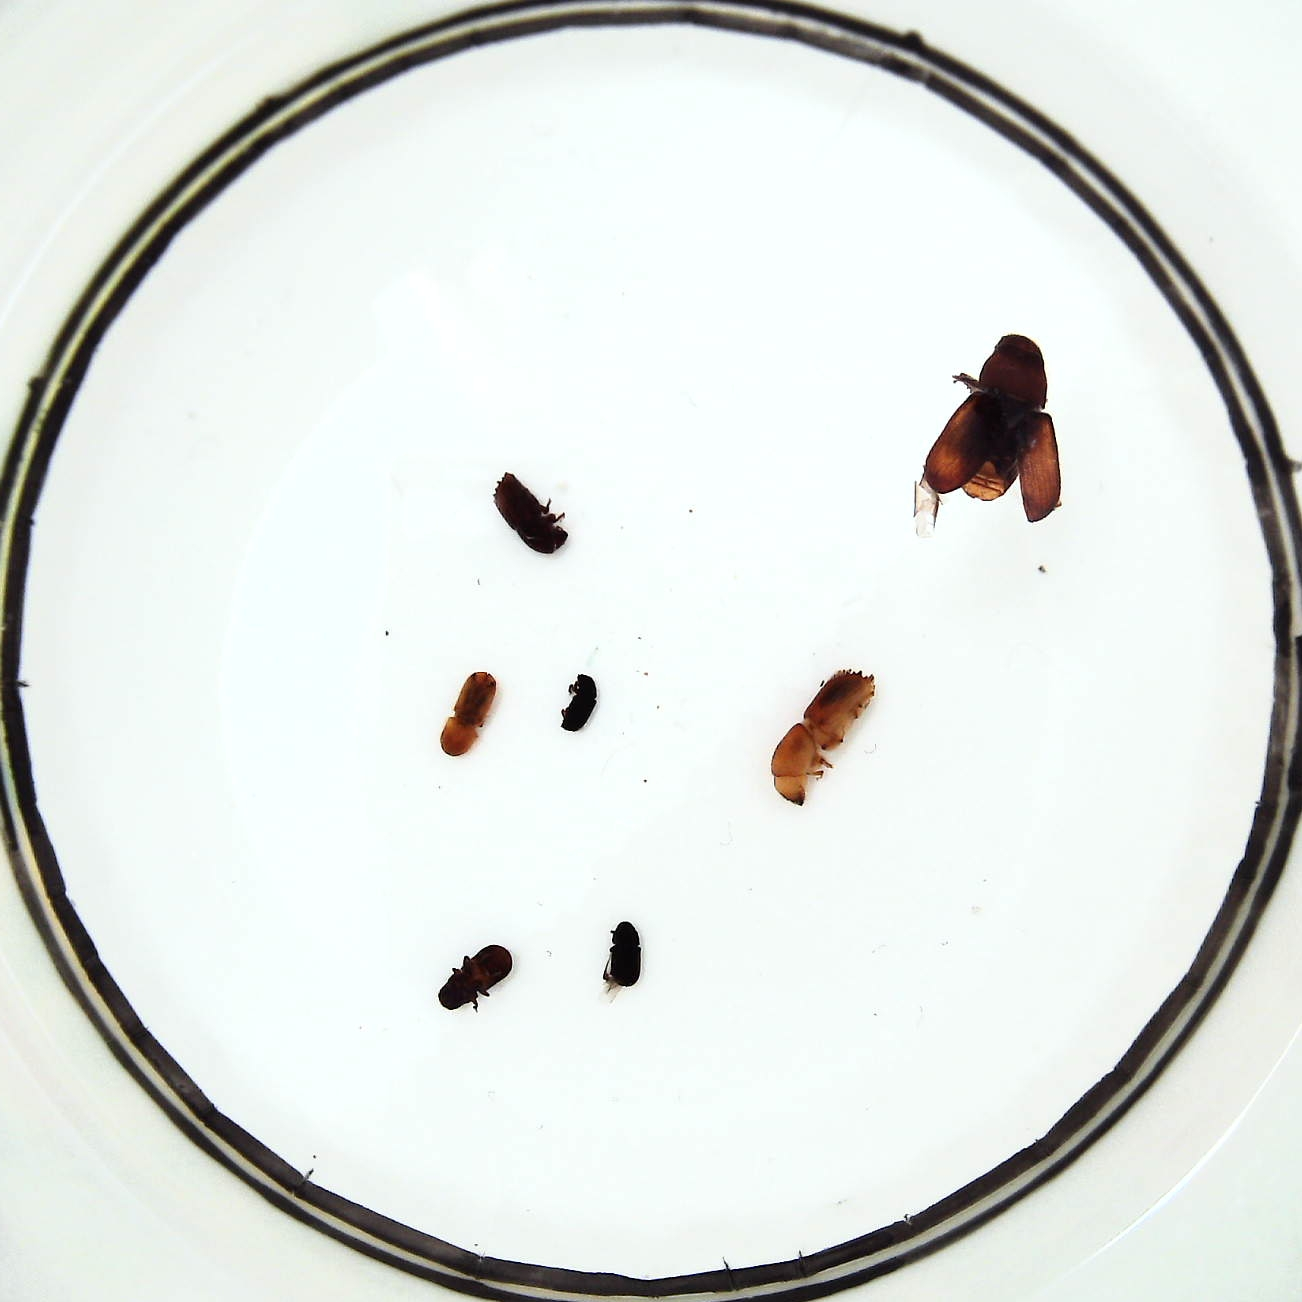Boerner: (768, 672, 876, 810)
Leconte: (922, 334, 1059, 525)
Linnaeus: (491, 475, 565, 554)
acuminatus: (441, 671, 495, 759)
armandi: (435, 941, 511, 1010)
coleoptera: (559, 674, 599, 737), (607, 923, 643, 990)
